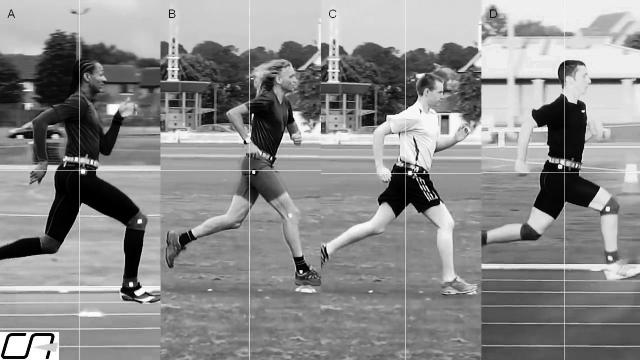berlari: (0, 54, 162, 308), (168, 49, 320, 305), (480, 51, 640, 289), (320, 62, 482, 296)
